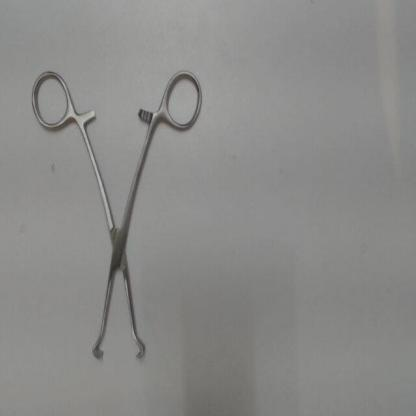Babcock Tissue Forceps: (26, 66, 206, 366)
